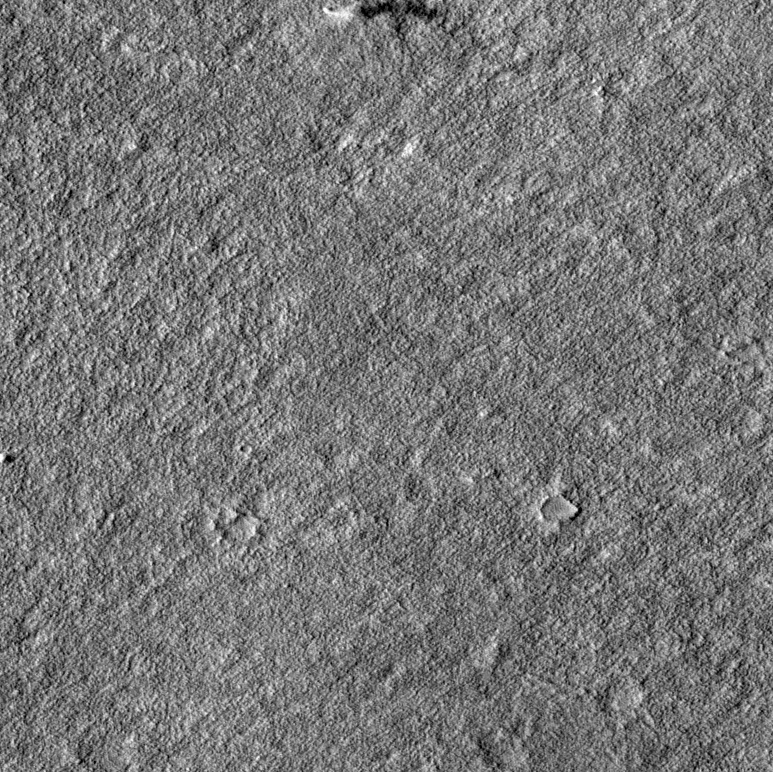dust_devil: (321, 1, 439, 26)
